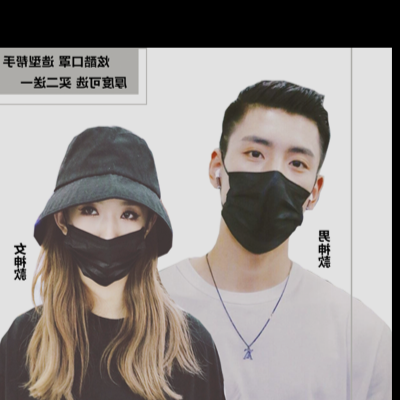with_mask: (217, 134, 318, 253), (64, 199, 146, 286)
